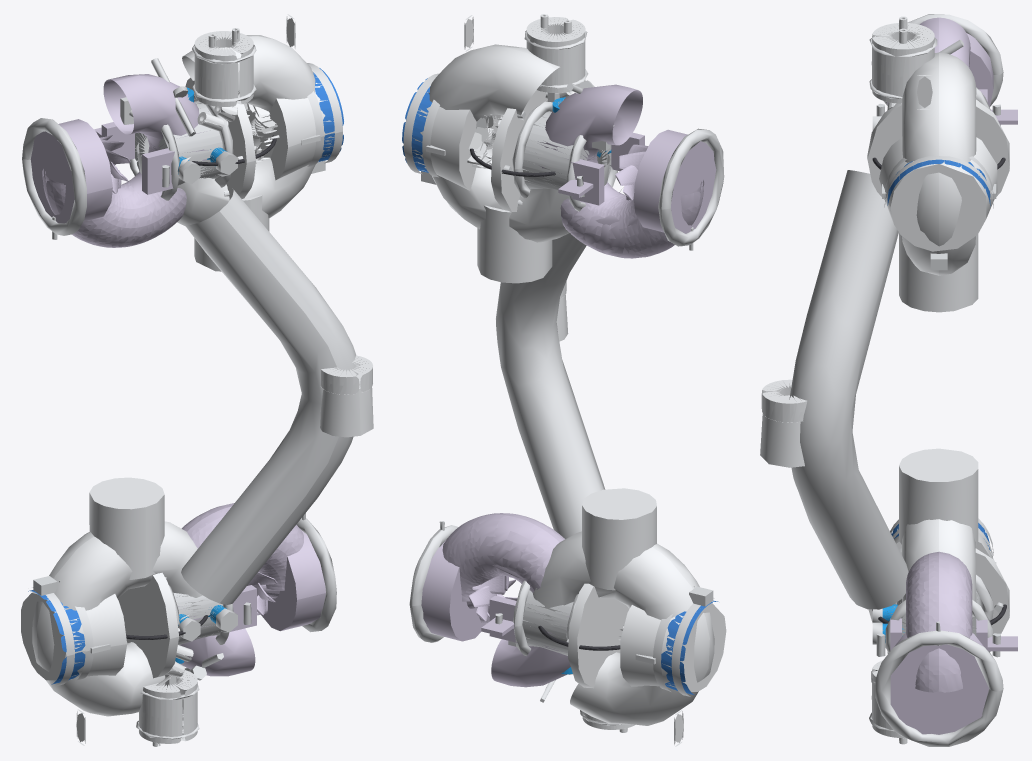
Rendered from turbo_twin.glb.
The picture shows the model from 3 angles, left to right: view 1: azimuth 30°, elevation 25°; view 2: azimuth 150°, elevation 25°; view 3: azimuth 270°, elevation 25°; orthographic projection. The views are drawn at different scales.
Visible parts, largest first — view 1: Anti_Surge_Ported_Air_Inlet_Snout, Adjustable_Wastegate_Linkage_Rod, Divided_TwinScroll_Turbine_Volute, DualPort_Wastegate_Canister, Inconel_Foil_Turbine_Thermal_Blanket, CHRA_Bearing_Center_Housing, Silicone_Inlet_Coupler_Boot, AN4_Hex_Nut_Body; view 2: Anti_Surge_Ported_Air_Inlet_Snout, Adjustable_Wastegate_Linkage_Rod, Divided_TwinScroll_Turbine_Volute, Inconel_Foil_Turbine_Thermal_Blanket, CHRA_Bearing_Center_Housing, DualPort_Wastegate_Canister, Silicone_Inlet_Coupler_Boot, AN4_Hex_Nut_Body, Backplate_Viton_O_Ring; view 3: Adjustable_Wastegate_Linkage_Rod, Anti_Surge_Ported_Air_Inlet_Snout, Divided_TwinScroll_Turbine_Volute, Inconel_Foil_Turbine_Thermal_Blanket, DualPort_Wastegate_Canister, Silicone_Inlet_Coupler_Boot, AN4_Hex_Nut_Body.
Boxes of the visible parts, <box> form: Anti_Surge_Ported_Air_Inlet_Snout: <box>21,35,373,716</box>; Adjustable_Wastegate_Linkage_Rod: <box>22,37,359,739</box>; Divided_TwinScroll_Turbine_Volute: <box>30,74,325,676</box>; DualPort_Wastegate_Canister: <box>138,31,373,743</box>; Inconel_Foil_Turbine_Thermal_Blanket: <box>42,131,303,627</box>; CHRA_Bearing_Center_Housing: <box>135,101,223,644</box>; Silicone_Inlet_Coupler_Boot: <box>28,68,343,684</box>; AN4_Hex_Nut_Body: <box>76,14,295,746</box>; Anti_Surge_Ported_Air_Inlet_Snout: <box>412,44,726,725</box>; Adjustable_Wastegate_Linkage_Rod: <box>403,22,724,725</box>; Divided_TwinScroll_Turbine_Volute: <box>421,84,716,687</box>; Inconel_Foil_Turbine_Thermal_Blanket: <box>442,141,704,647</box>; CHRA_Bearing_Center_Housing: <box>522,111,611,655</box>; DualPort_Wastegate_Canister: <box>526,17,635,729</box>; Silicone_Inlet_Coupler_Boot: <box>402,78,718,694</box>; AN4_Hex_Nut_Body: <box>464,14,683,746</box>; Backplate_Viton_O_Ring: <box>470,148,620,650</box>; Adjustable_Wastegate_Linkage_Rod: <box>789,14,1003,746</box>; Anti_Surge_Ported_Air_Inlet_Snout: <box>760,52,1009,648</box>; Divided_TwinScroll_Turbine_Volute: <box>887,17,1017,734</box>; Inconel_Foil_Turbine_Thermal_Blanket: <box>906,551,972,692</box>; DualPort_Wastegate_Canister: <box>761,23,934,738</box>; Silicone_Inlet_Coupler_Boot: <box>887,159,990,550</box>; AN4_Hex_Nut_Body: <box>899,16,932,744</box>.
Size of the model in its own units: 0.2356 by 0.5482 by 0.1728.
